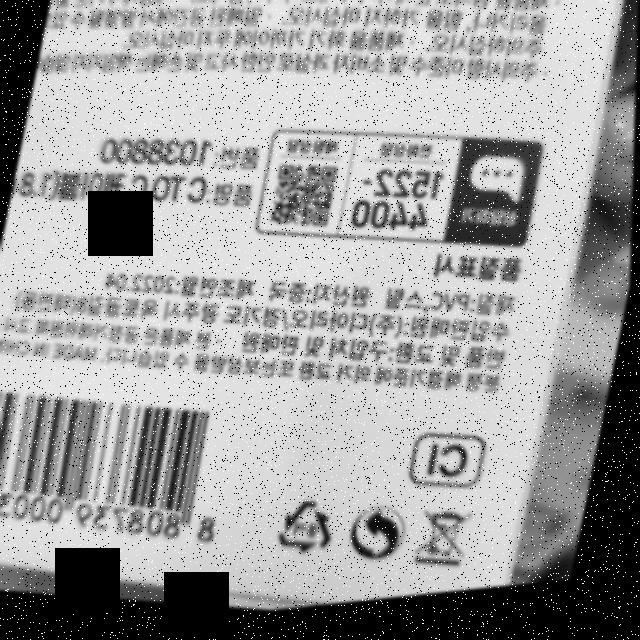Paper: (276, 496, 346, 568)
